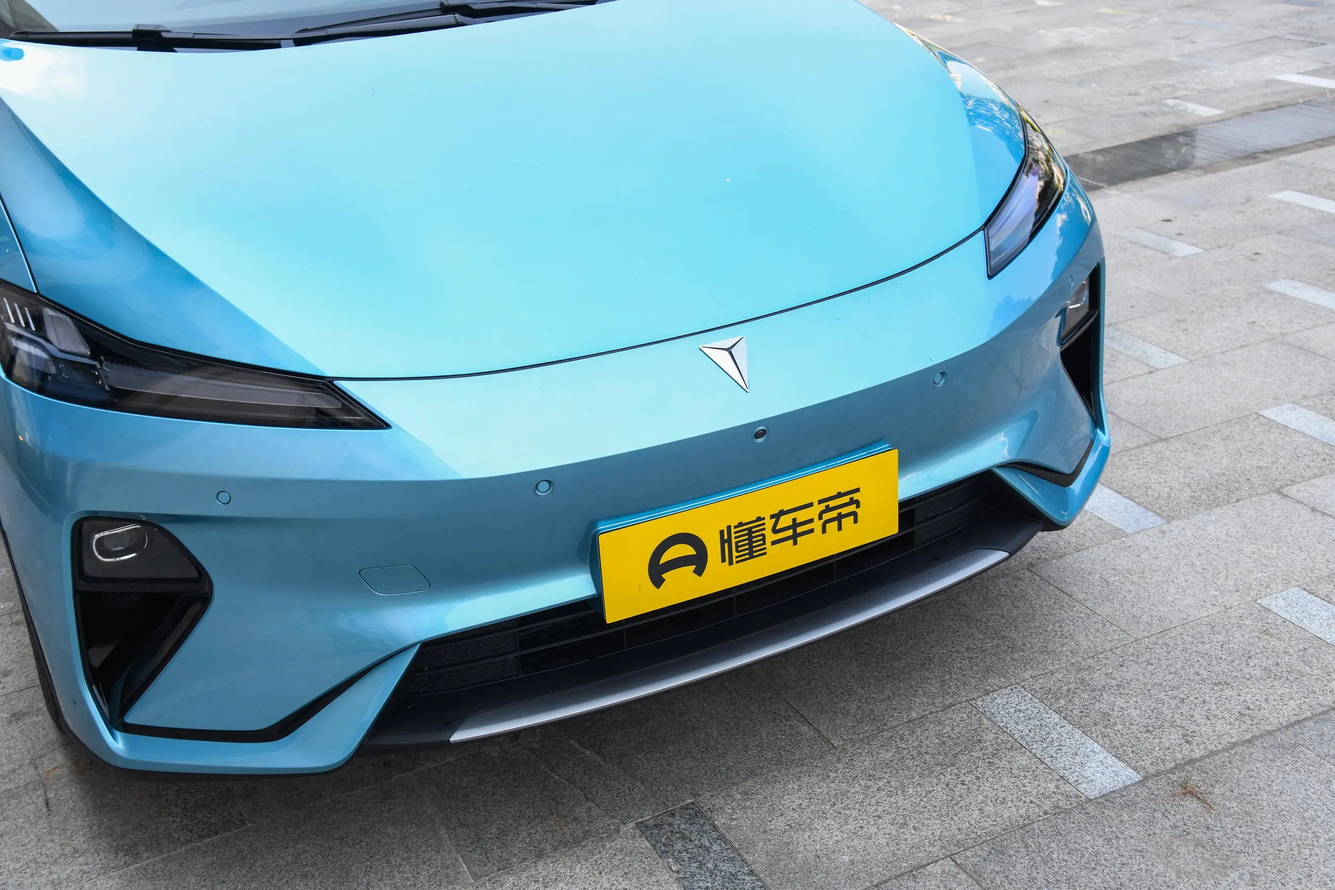Deepal: (699, 335, 749, 392)
